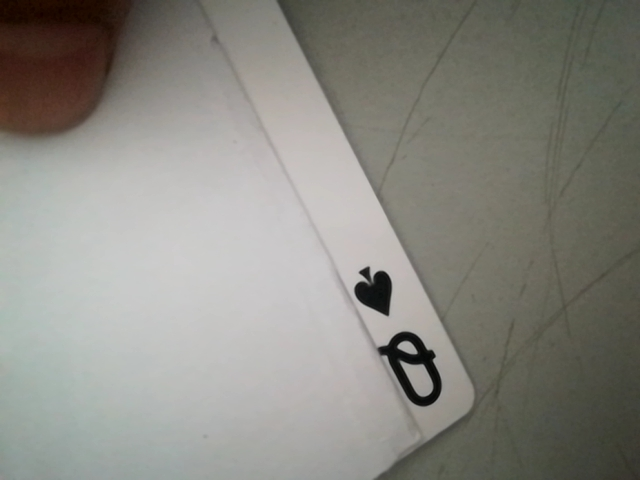ht q: (336, 250, 463, 432)
